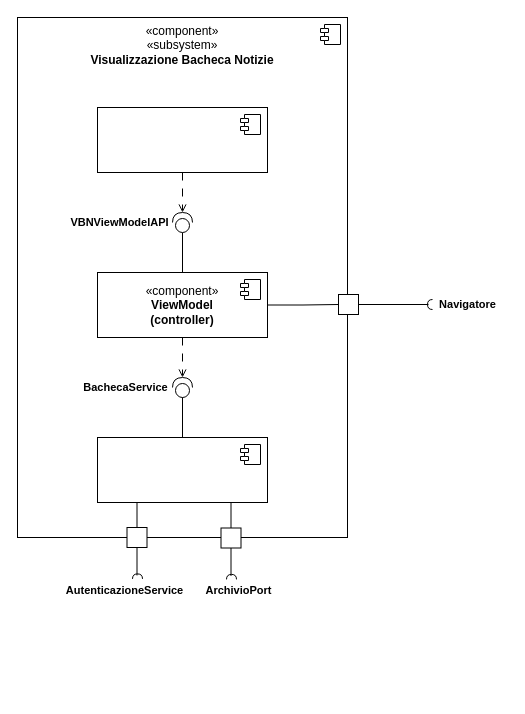
This 525x714 diagram has some shape labels left out. The box of each missing label's shape, as (x1, y1, x2, y2) in pixels:
«component» Service: (96, 436, 268, 502)
«component» View (GUI): (96, 106, 268, 172)
